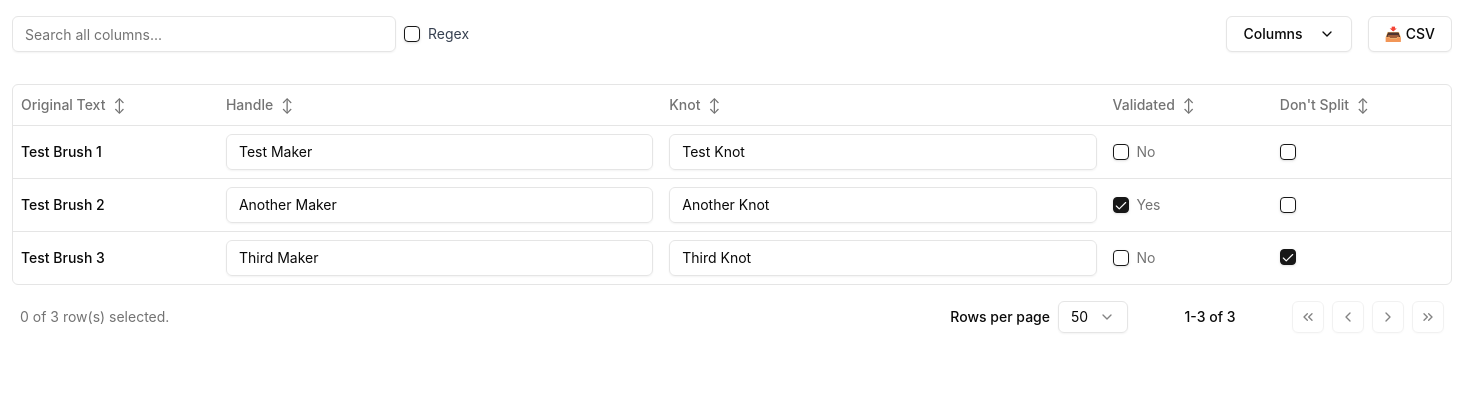
Test: BrushSplitTable › Don't Split Checkbox Functionality › allows toggling Don't Split checkbox
This screenshot has width=1464, height=403.
Expected: the text "Save All Changes" is not shown
// Click the checkbox
Click the checkbox named "Don't split for row 1".
click(1288, 152)  # box [1280, 144, 1296, 160]
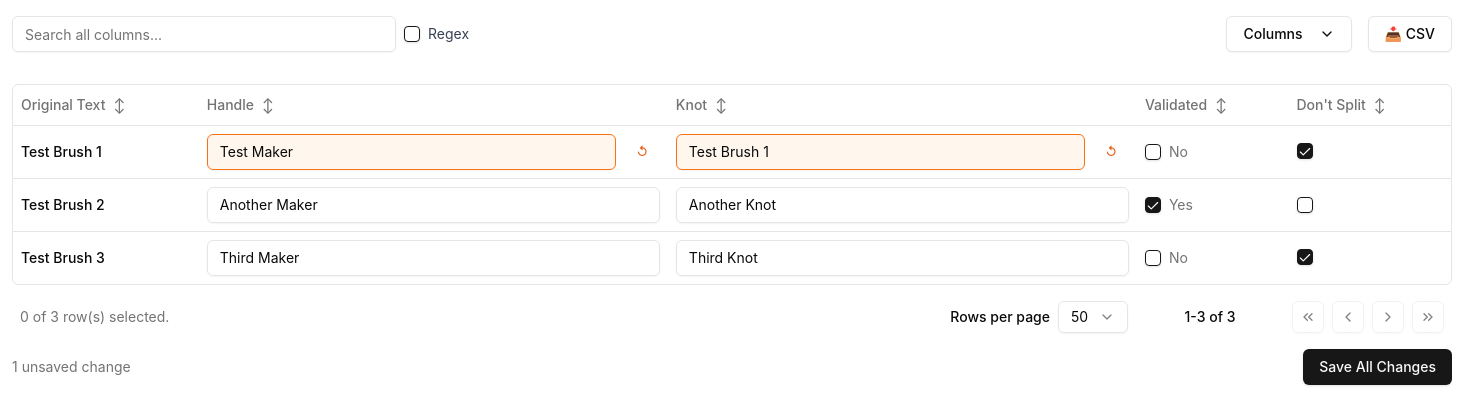
Now the button "Save All Changes" is shown, box [1303, 348, 1452, 384]
